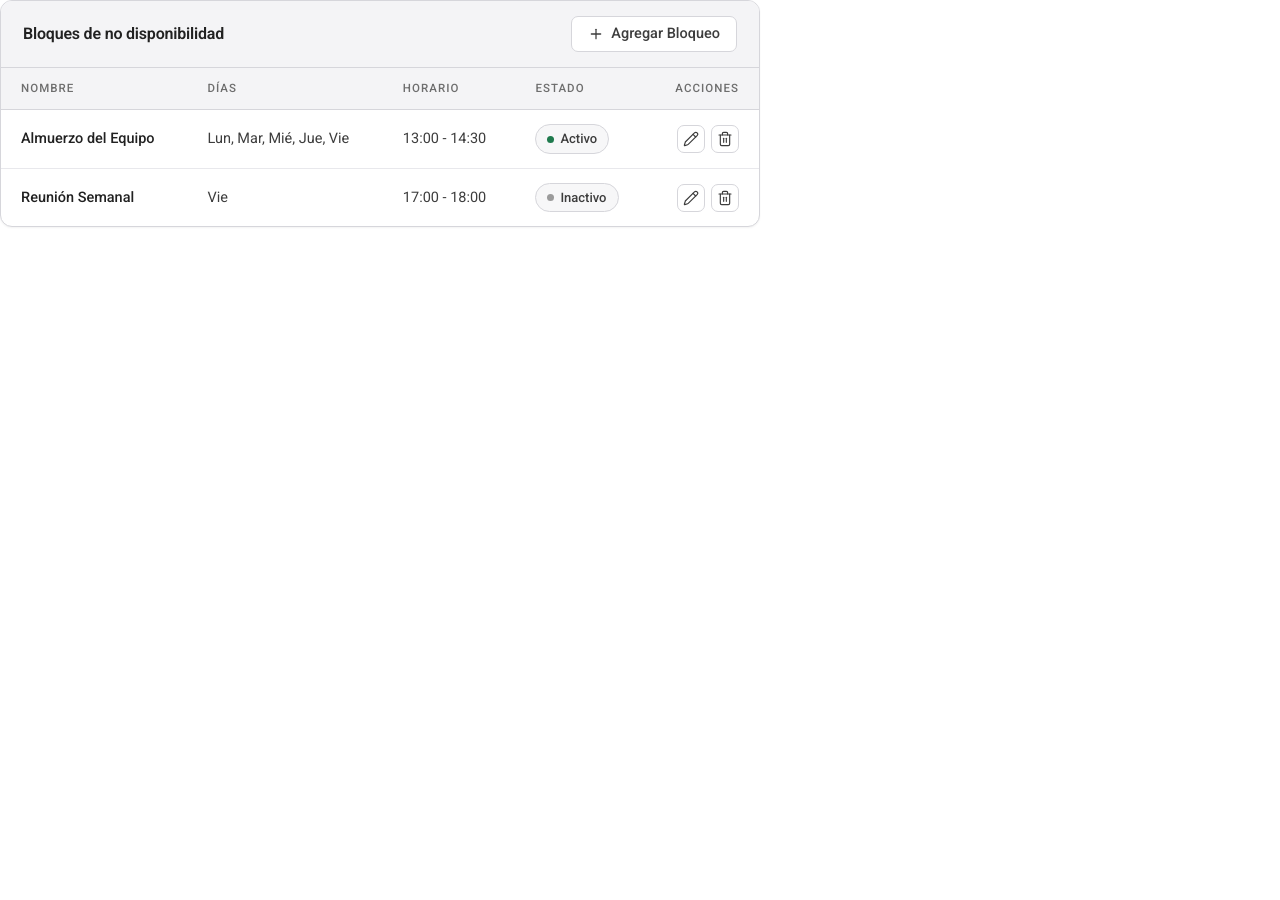
UnavailabilityManager — UI & Validation Integration (Fase 6.1) › prevents form submit and displays validation error if start_time is greater than or equal to end_time
This screenshot has width=1280, height=900.
Click the button "Agregar Bloqueo" at x=654, y=34, box [571,16,737,52]
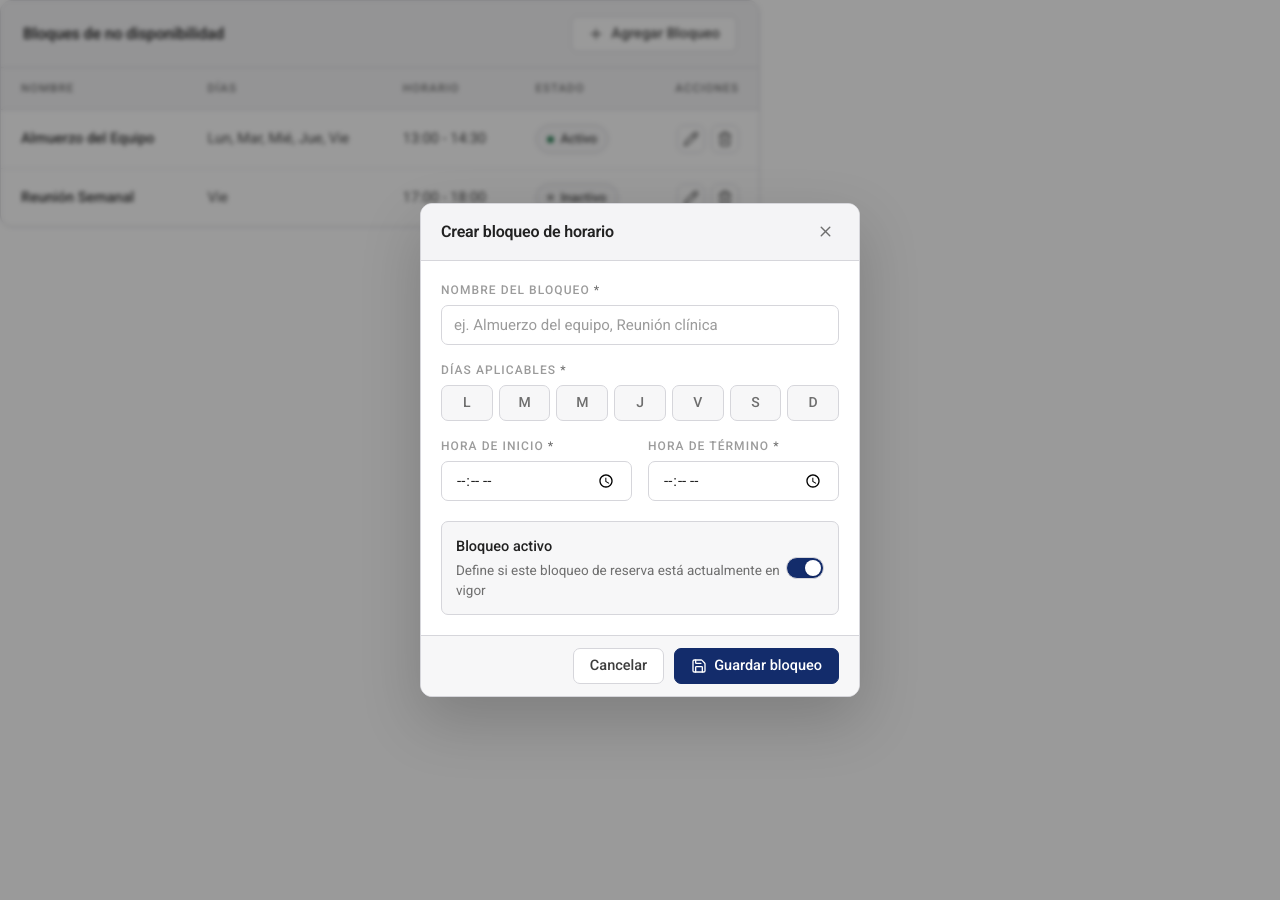
Type "Error Horas" into the field labelled "Nombre del bloqueo *" at x=640, y=325, box [441,305,839,345]
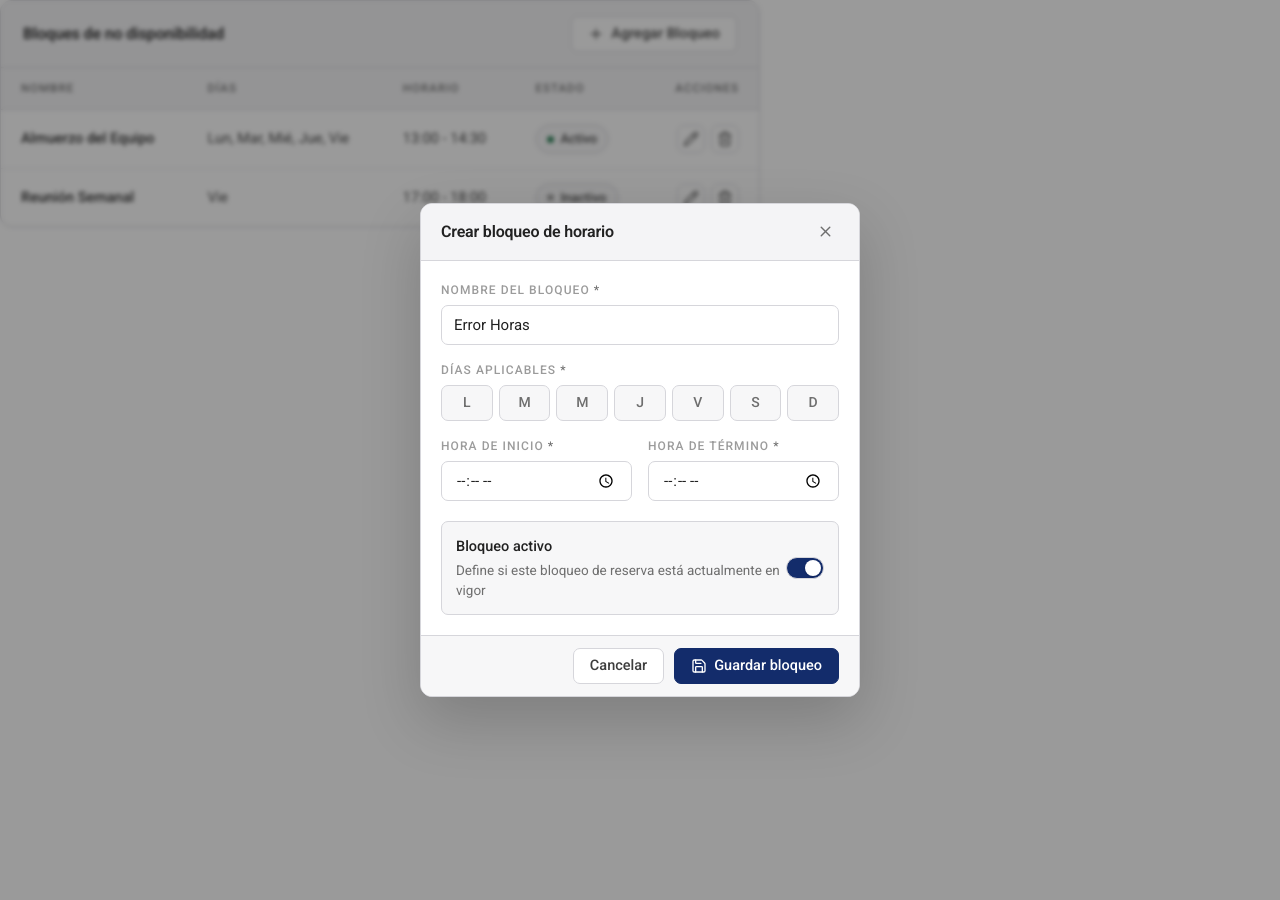
Click the button named "Toggle día Lunes" at x=467, y=403, box [441,385,493,421]
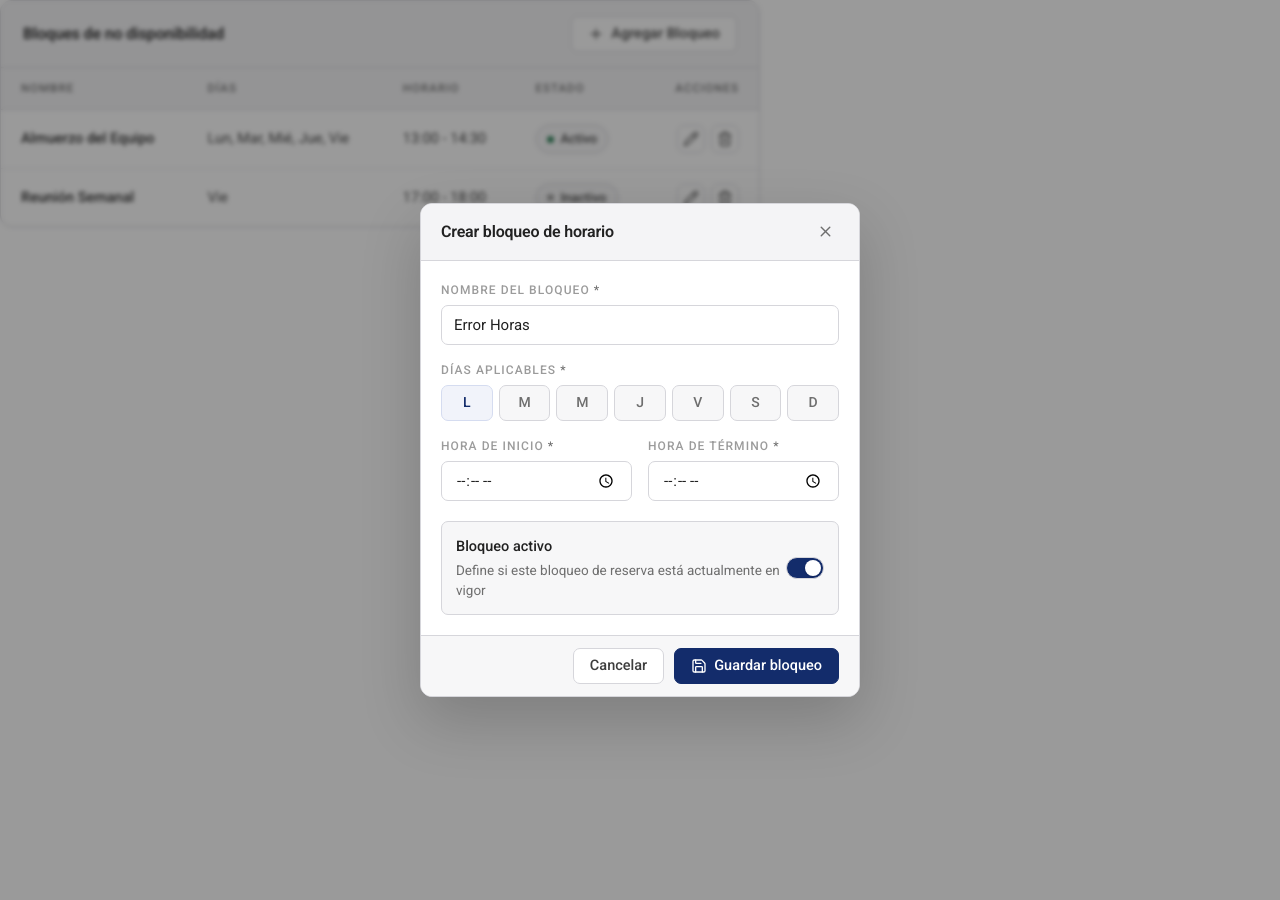
# Set start time 14:00 and end time 13:00 (Invalid!)
Type "14:00" into the time field labelled "Hora de inicio" at x=536, y=481, box [441,461,632,501]
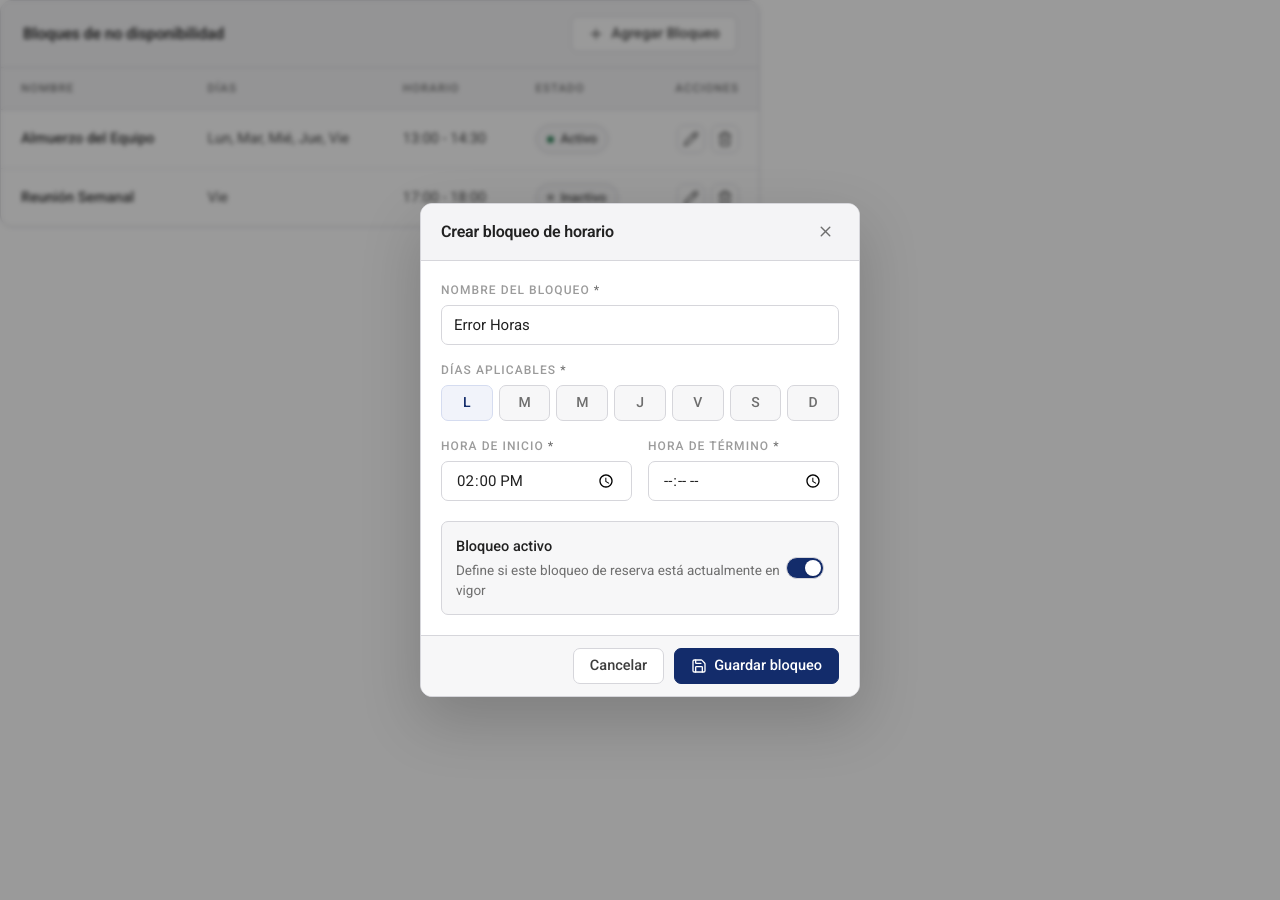
Type "13:00" into the time field labelled "Hora de término" at x=744, y=481, box [648,461,839,501]
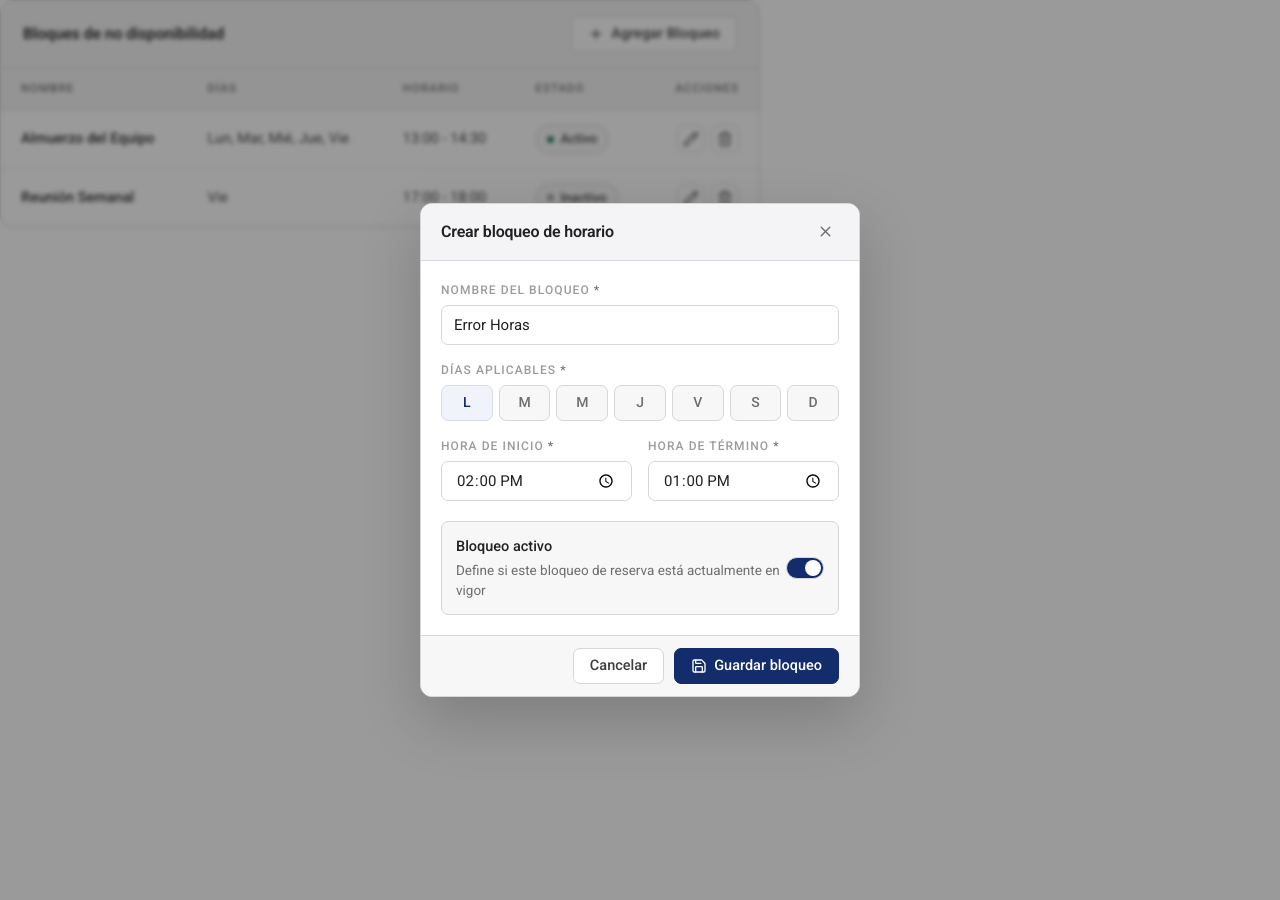
Submit the form named "unavailability-form", box [441,281,839,615]
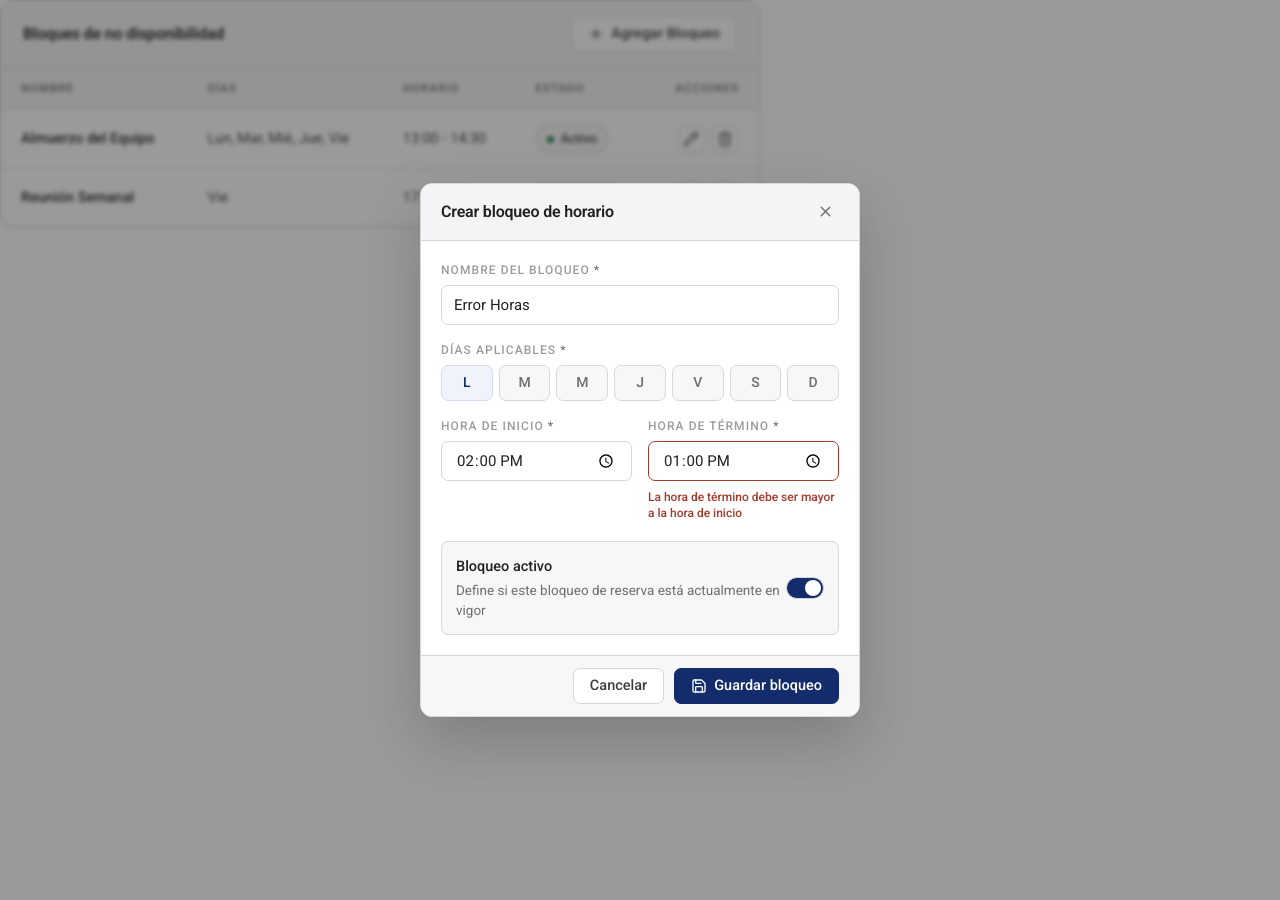
expect the text "La hora de término debe ser mayor a la hora de inicio" is shown: met, box [648,489,839,521]
